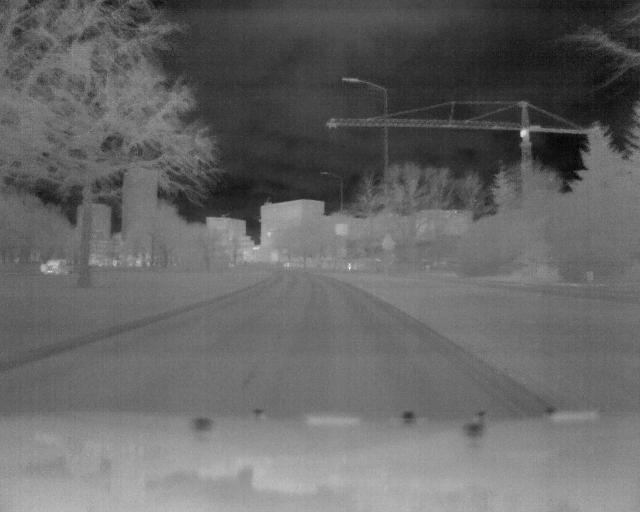car: (40, 256, 72, 276)
